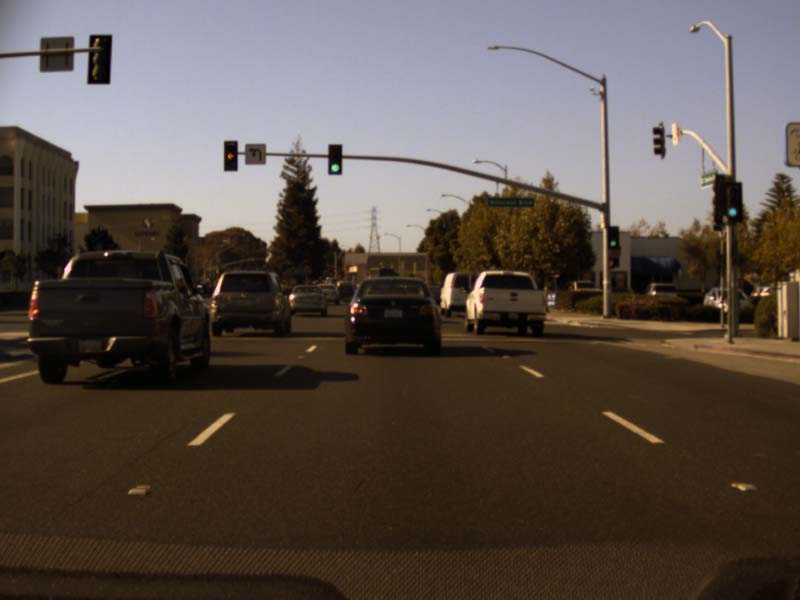Green: (724, 182, 741, 221), (328, 144, 341, 175), (608, 226, 618, 248)
Red: (223, 139, 237, 171)
